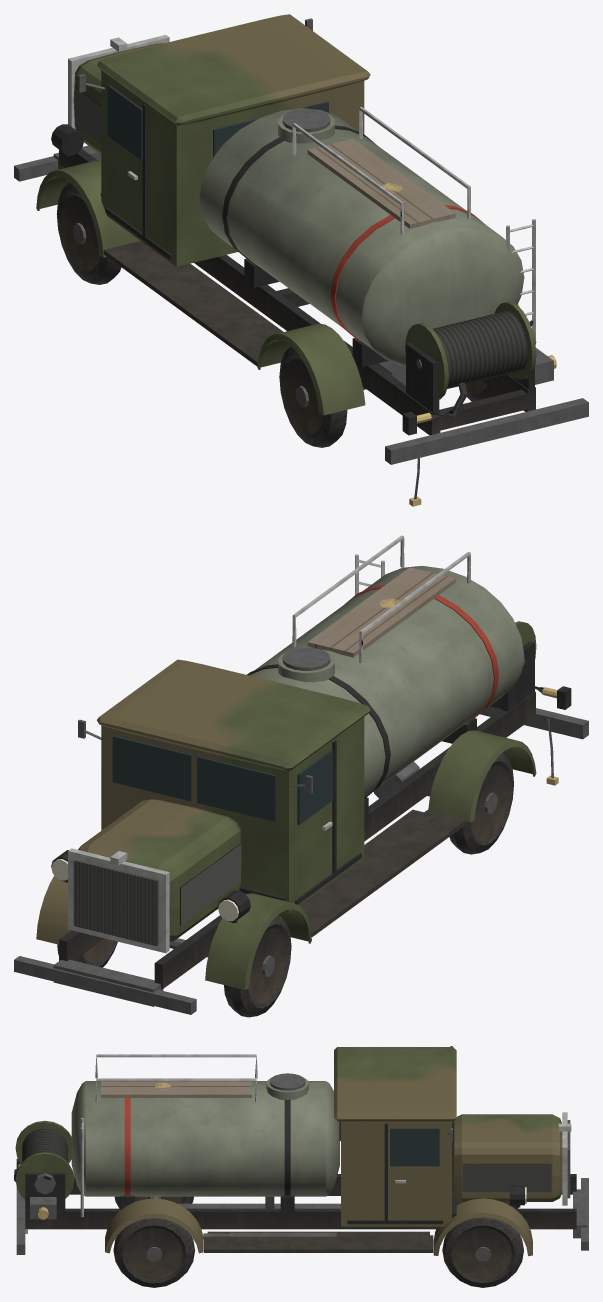
File: fuel_truck.glb
3 renders of one model, top to bottom at view 1: azimuth 30°, elevation 25°; view 2: azimuth 150°, elevation 25°; view 3: azimuth 270°, elevation 25°, orthographic. The views are drawn at different scales.
Parts seen in each view (by area): view 1: tank, cab, fenders, chassis, hose_reel_drum, wheel_RL, wheel_FL, hose_end; view 2: cab, tank, fenders, chassis, wheel_FL, wheel_RL, wheel_FR; view 3: tank, cab, chassis, fenders, wheel_FR, wheel_RR, hose_reel_drum, wheel_RL.
Part boxes in pixels (<box>): tank: <box>199,107,556,413</box>; cab: <box>51,14,370,266</box>; fenders: <box>36,160,519,415</box>; chassis: <box>14,145,588,464</box>; hose_reel_drum: <box>405,301,536,399</box>; wheel_RL: <box>279,346,347,447</box>; wheel_FL: <box>56,182,121,284</box>; hose_end: <box>402,382,467,435</box>; cab: <box>51,659,370,953</box>; tank: <box>247,535,534,822</box>; fenders: <box>36,730,536,989</box>; chassis: <box>14,692,588,1014</box>; wheel_FL: <box>224,915,291,1017</box>; wheel_RL: <box>449,753,513,854</box>; wheel_FR: <box>57,938,117,967</box>; tank: <box>25,1054,339,1219</box>; cab: <box>334,1046,571,1226</box>; chassis: <box>16,1174,588,1254</box>; fenders: <box>105,1194,532,1256</box>; wheel_FR: <box>442,1217,523,1287</box>; wheel_RR: <box>113,1218,195,1287</box>; hose_reel_drum: <box>15,1120,74,1199</box>; wheel_RL: <box>114,1196,193,1208</box>.
Size of the model in its own units: 2.24 by 2.36 by 6.47.
1 material, 1 textured.
